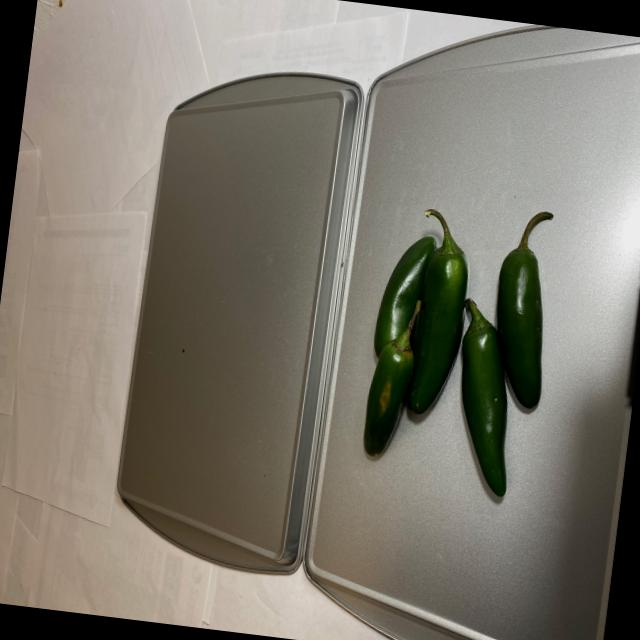chilli: (347, 184, 582, 516)
